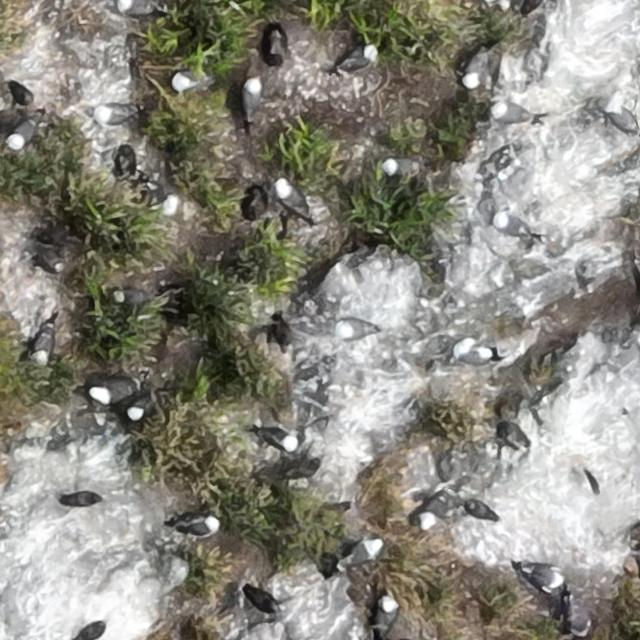umineko: (148, 170, 184, 217), (170, 64, 211, 94), (493, 213, 534, 241), (92, 383, 136, 404), (346, 538, 381, 564), (277, 181, 306, 212), (338, 46, 375, 70), (492, 103, 534, 124), (9, 119, 39, 148), (525, 566, 561, 589), (242, 78, 260, 115), (335, 319, 372, 337), (98, 105, 133, 124), (35, 328, 55, 360), (608, 111, 637, 133), (113, 289, 155, 304), (185, 516, 218, 535), (422, 498, 448, 522), (265, 431, 296, 451), (463, 56, 483, 87), (464, 502, 498, 520), (376, 598, 396, 628), (458, 346, 493, 362), (116, 0, 156, 14), (385, 158, 414, 176), (76, 624, 105, 640), (128, 404, 146, 421)
